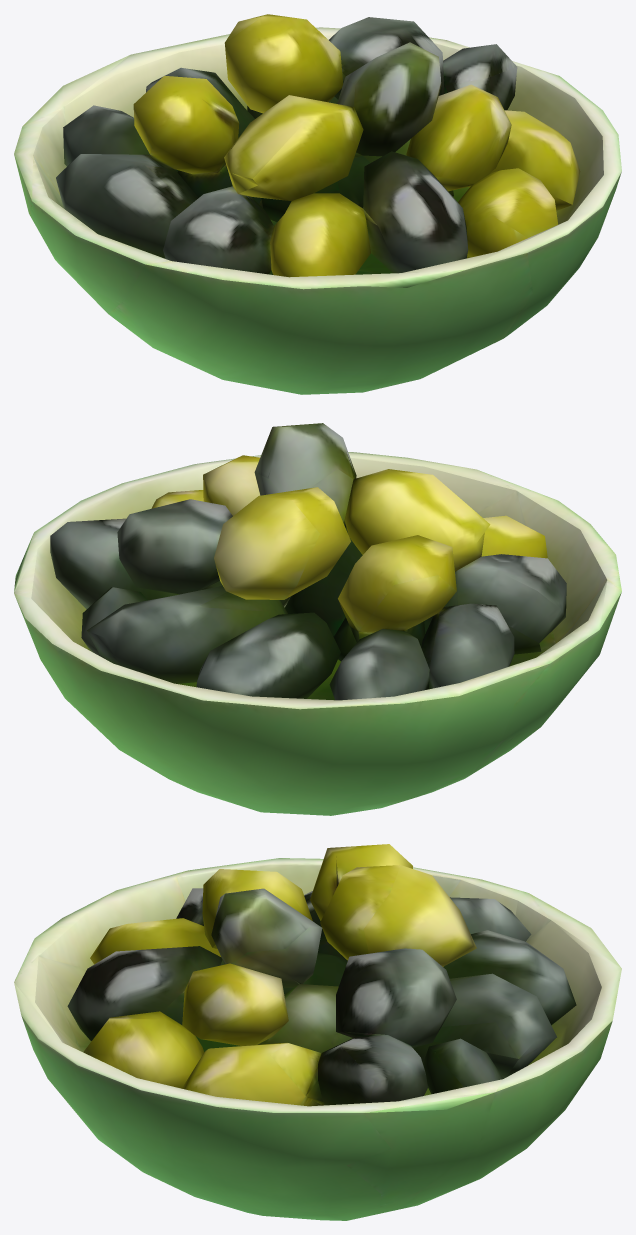
The model's file is oliveBowl.glb.
3 views of the same model, one above another, from view 1: azimuth 30°, elevation 25°; view 2: azimuth 150°, elevation 25°; view 3: azimuth 270°, elevation 25° (orthographic).
Visible parts, largest first — view 1: model; view 2: model; view 3: model.
Part boxes in pixels (left/top/right/bottom): model: left=14, top=14, right=621, bottom=394; model: left=14, top=423, right=621, bottom=815; model: left=14, top=844, right=621, bottom=1220.
Size of the model in its own units: 1.89 by 1.03 by 1.9.
1 material, 1 textured.
